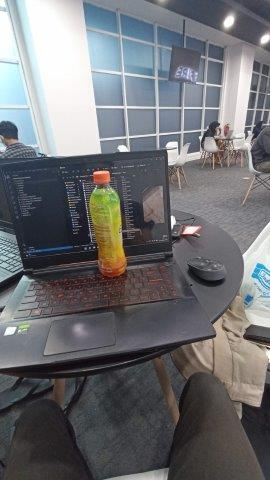botolplastik: (89, 171, 126, 276)
